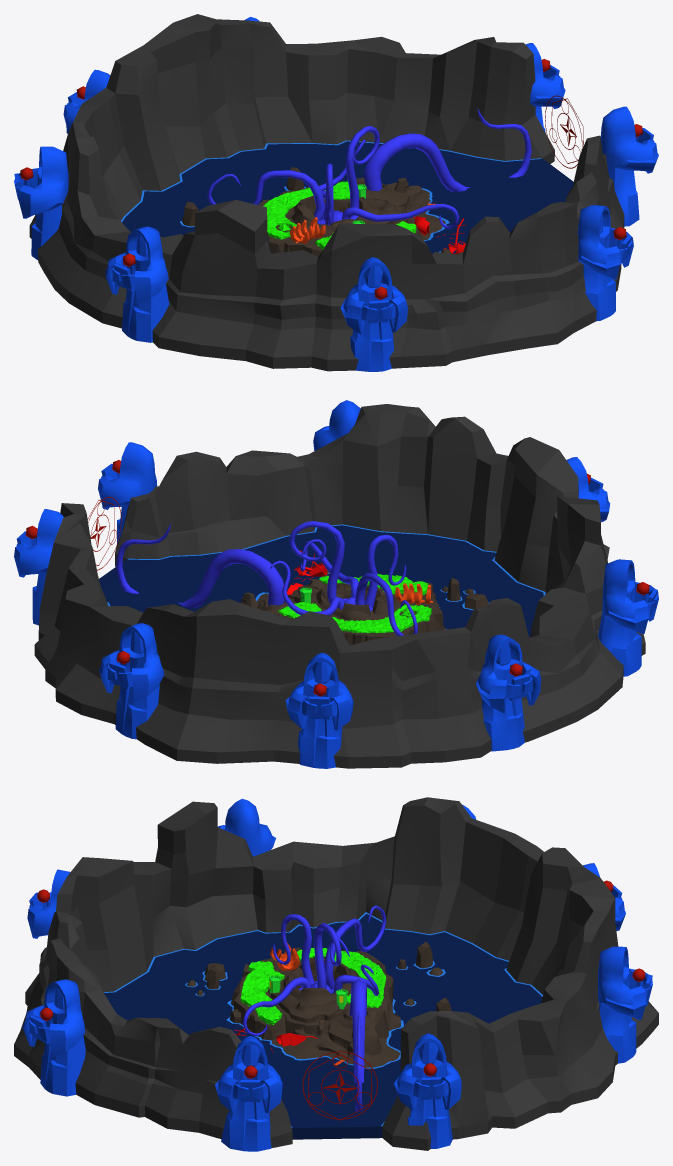
Rendered from Fantasy_Island.fbx.
3 renders of one model, top to bottom at view 1: azimuth 30°, elevation 25°; view 2: azimuth 150°, elevation 25°; view 3: azimuth 270°, elevation 25°, orthographic.
Visible parts, largest first — view 1: Box021, Box012, Object009, Cylinder016, Plane001, Plane002, Star001, Box020; view 2: Box021, Box012, Object009, Cylinder016, Plane001, Plane002, Star001, Box020; view 3: Box021, Object009, Box012, Plane001, Cylinder016, Plane002, Star001.
Boxes of the visible parts, box(x1,y1,x2,y2) form: Box021: box(29, 14, 624, 371); Box012: box(14, 17, 658, 371); Object009: box(121, 140, 573, 254); Cylinder016: box(207, 108, 531, 228); Plane001: box(182, 167, 463, 256); Plane002: box(262, 181, 416, 249); Star001: box(20, 59, 642, 299); Box020: box(289, 202, 441, 243); Box021: box(34, 404, 645, 768); Box012: box(14, 400, 658, 768); Object009: box(99, 524, 545, 637); Cylinder016: box(116, 521, 417, 635); Plane001: box(240, 570, 488, 645); Plane002: box(277, 573, 431, 633); Star001: box(25, 460, 649, 696); Box020: box(395, 583, 433, 604); Box021: box(14, 797, 658, 1150); Object009: box(103, 912, 542, 1138); Box012: box(23, 798, 652, 1151); Plane001: box(187, 941, 451, 1067); Cylinder016: box(242, 905, 386, 1111); Plane002: box(240, 948, 386, 1024); Star001: box(37, 880, 645, 1120).
Bounding box in the file's own units: 1852 × 433 × 1899.
